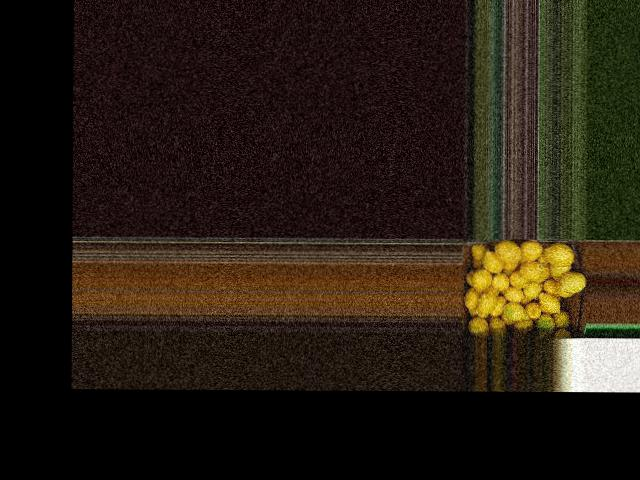lemon: (524, 282, 540, 300)
